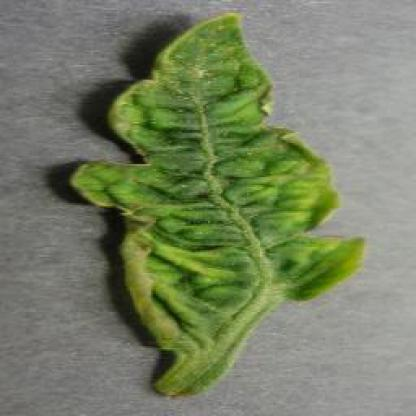bad leaf: (80, 1, 370, 404)
